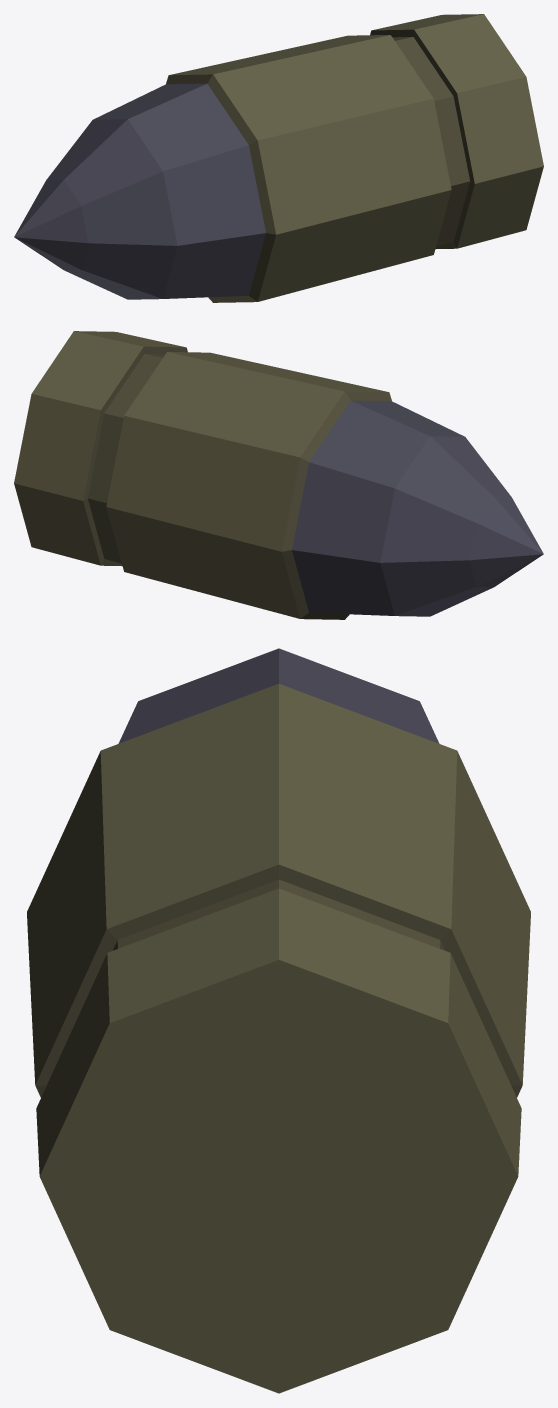
File: CowboyBullet.fbx
3 views of the same model, one above another, from view 1: azimuth 30°, elevation 25°; view 2: azimuth 150°, elevation 25°; view 3: azimuth 270°, elevation 25° (orthographic). The views are drawn at different scales.
Parts seen in each view (by area): view 1: Cube; view 2: Cube; view 3: Cube.
Part boxes in pixels (x1,y1,x2,y2): Cube: (14,14,543,302); Cube: (14,331,543,619); Cube: (27,648,530,1393).
Bounding box in the file's own units: 106 × 49.04 × 49.04.
